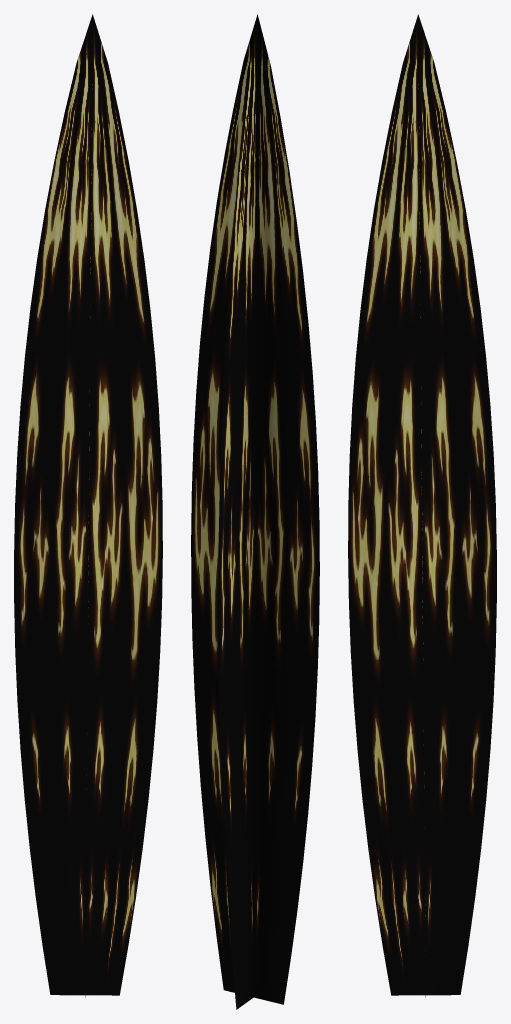
Rendered from 0226_bike_M_01.glb.
3 renders of one model, left to right at view 1: azimuth 90°, elevation 25°; view 2: azimuth 150°, elevation 25°; view 3: azimuth 270°, elevation 25°, orthographic.
Bounding box in the file's own units: 0.3023 × 2.2 × 0.3023.
Materials: 1 (1 with a texture image).
